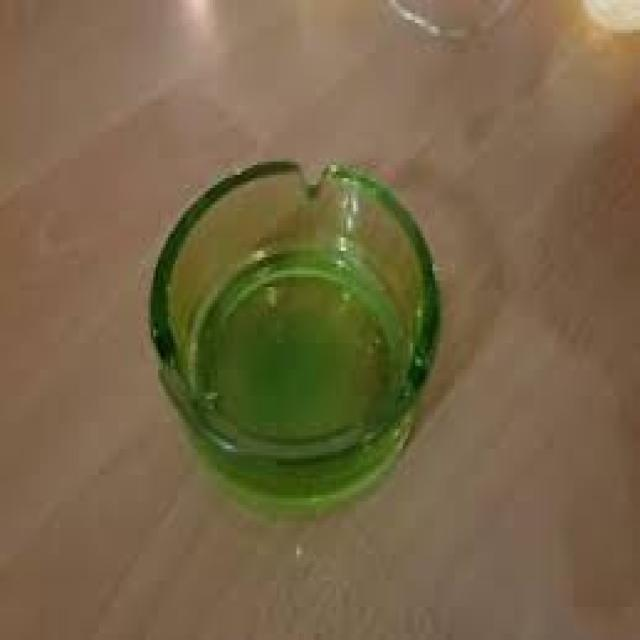glass: (146, 155, 437, 508), (376, 0, 531, 46)
